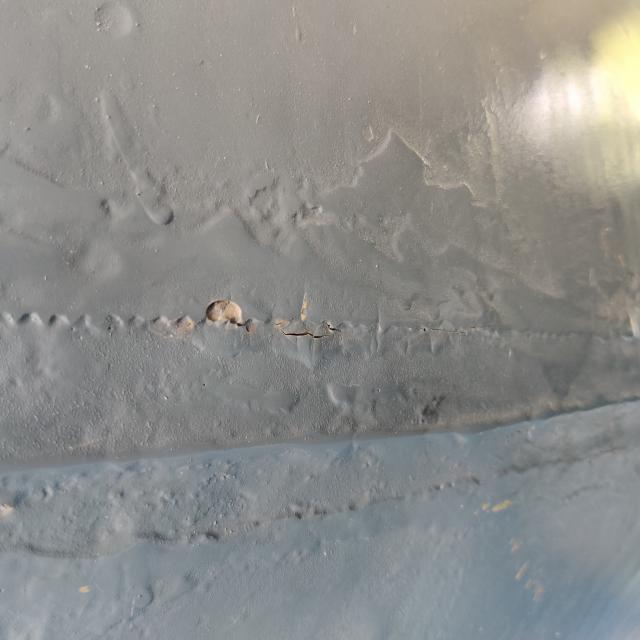crack: (182, 293, 367, 350)
